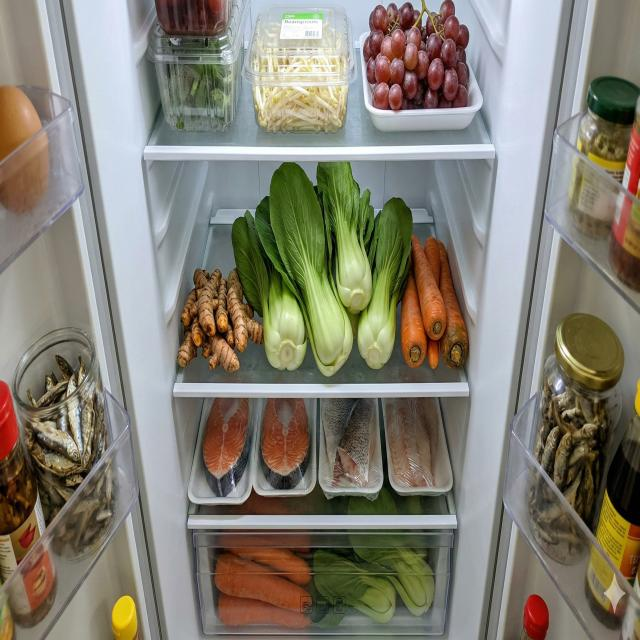anchovies: (23, 352, 115, 558), (528, 369, 617, 558)
bean_sprouts: (251, 15, 350, 134)
carrot: (214, 531, 313, 629), (400, 234, 469, 370)
egg: (0, 84, 50, 215)
fish: (202, 397, 258, 498), (321, 398, 377, 490), (385, 398, 439, 488), (260, 398, 311, 489)
grape: (363, 0, 470, 111)
pakchoy: (232, 161, 414, 378), (304, 487, 436, 630)
turmeric: (177, 269, 264, 374)
